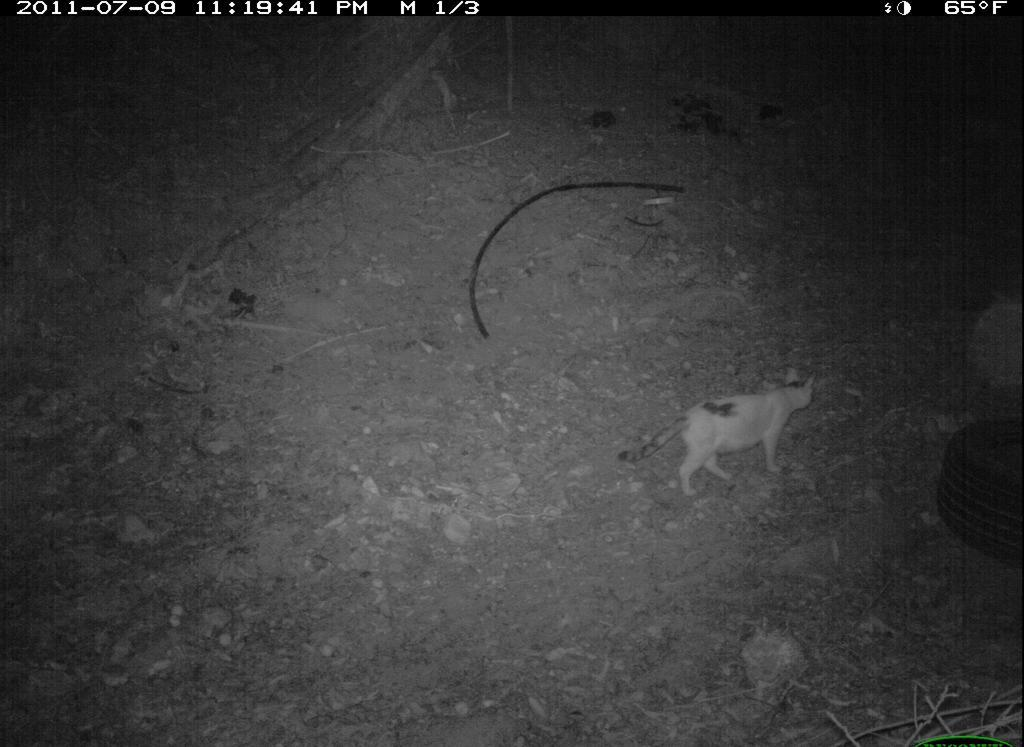cat: (609, 359, 837, 507)
